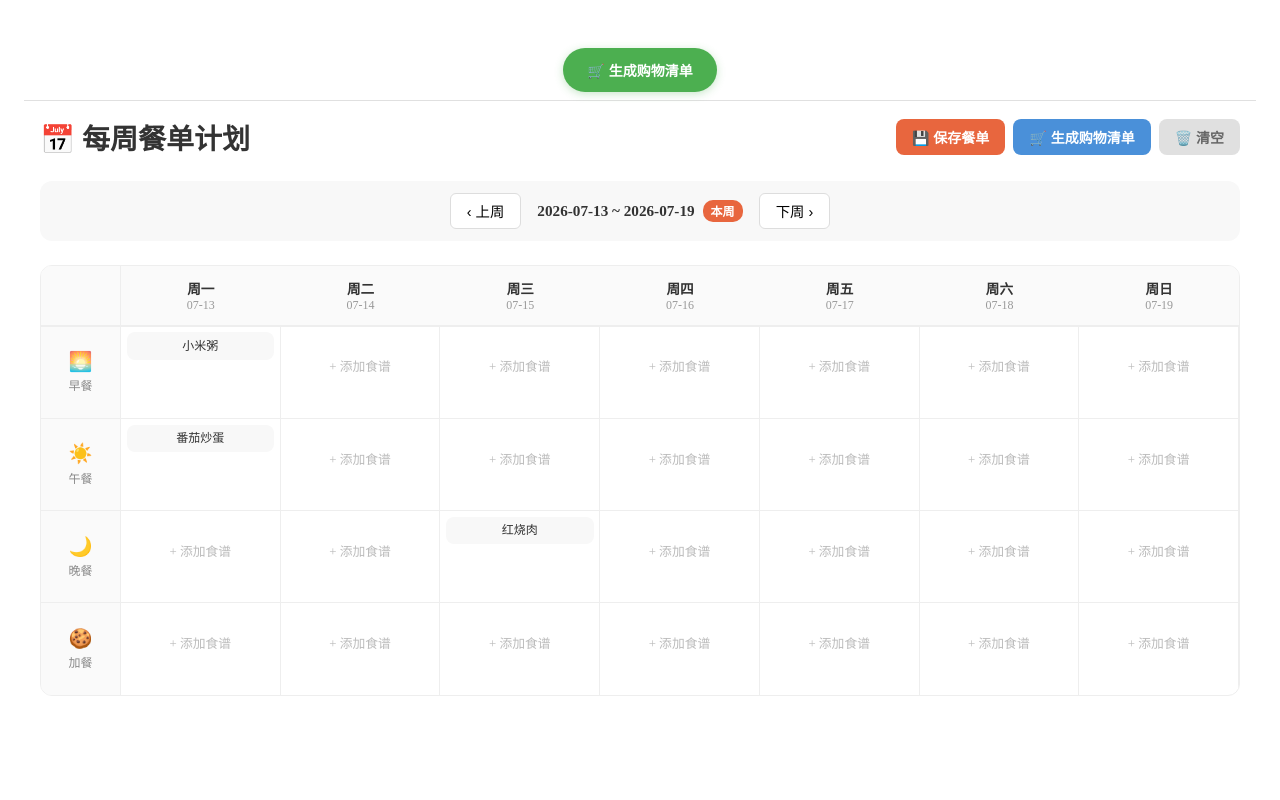
MealPlannerPage › 搜索弹窗 › 点击空餐位打开搜索弹窗
Click the 1st text "+ 添加食谱" at (360, 367), box top-left (329, 360), bottom-right (391, 374)
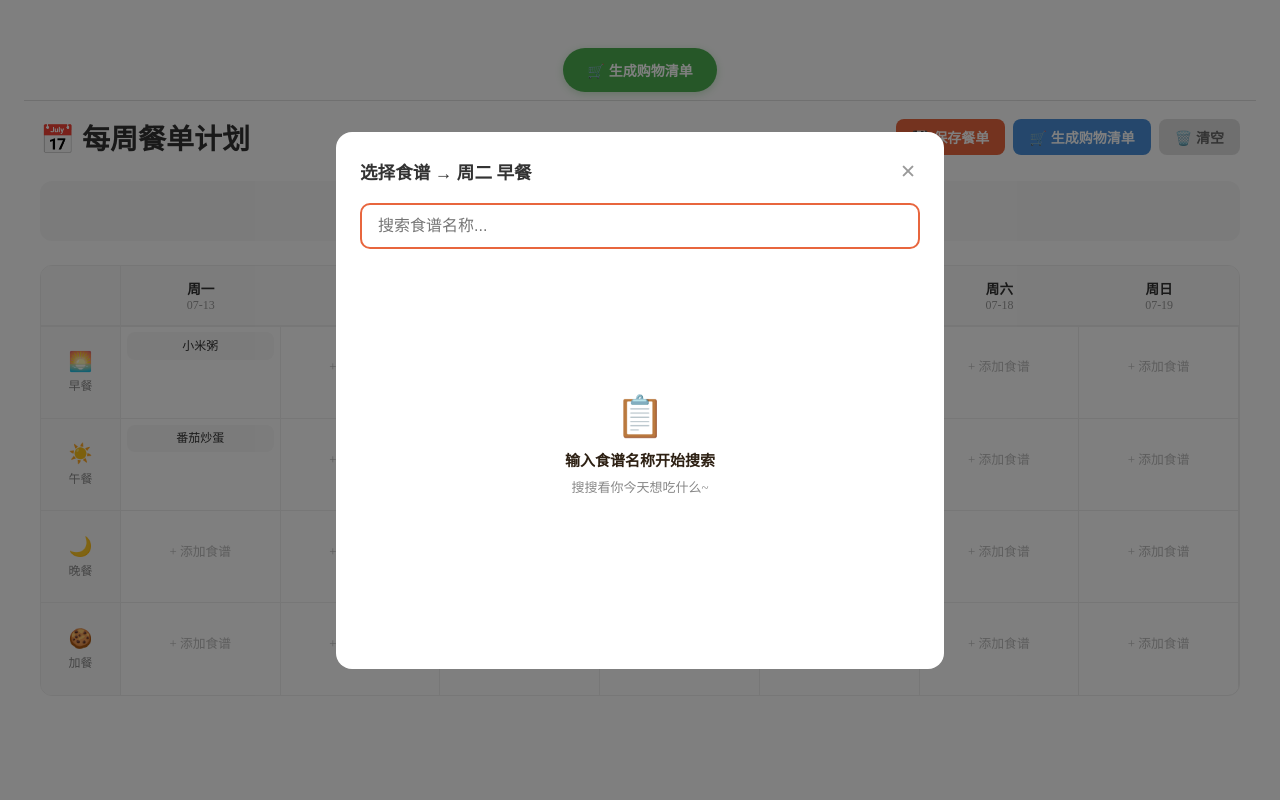
expect the field with placeholder "搜索食谱名称..." is shown: met, box top-left (360, 202), bottom-right (920, 248)
